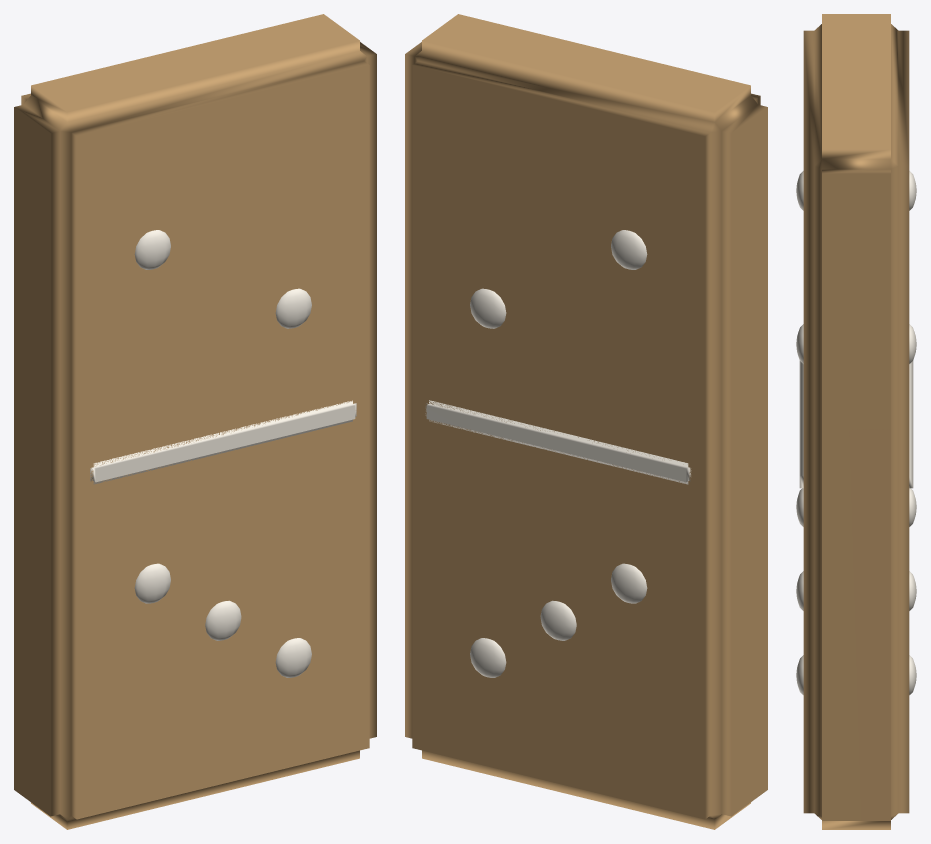
The model's file is wood_domino_bevel.glb.
The picture shows the model from 3 angles, left to right: view 1: azimuth 30°, elevation 25°; view 2: azimuth 150°, elevation 25°; view 3: azimuth 270°, elevation 25°; orthographic projection. The views are drawn at different scales.
Visible parts, largest first — view 1: Body, Divider_-0.125, Pip_-0.125_0.19_0.3, Pip_-0.125_-0.19_-0.32, Pip_-0.125_0.19_-0.6, Pip_-0.125_-0.19_0.54, Pip_-0.125_0.0_-0.46; view 2: Body, Divider_0.125, Pip_0.125_0.19_0.3, Pip_0.125_-0.19_-0.32, Pip_0.125_0.19_-0.6, Pip_0.125_-0.19_0.54, Pip_0.125_0.0_-0.46; view 3: Body, Divider_0.125, Divider_-0.125.
Boxes of the visible parts, bbox=[...] form: Body: bbox=[14, 14, 376, 829]; Divider_-0.125: bbox=[90, 400, 356, 484]; Pip_-0.125_0.19_0.3: bbox=[275, 288, 311, 328]; Pip_-0.125_-0.19_-0.32: bbox=[134, 563, 170, 603]; Pip_-0.125_0.19_-0.6: bbox=[275, 638, 311, 677]; Pip_-0.125_-0.19_0.54: bbox=[134, 230, 170, 269]; Pip_-0.125_0.0_-0.46: bbox=[205, 600, 241, 640]; Body: bbox=[405, 14, 767, 829]; Divider_0.125: bbox=[425, 400, 691, 484]; Pip_0.125_0.19_0.3: bbox=[470, 288, 506, 328]; Pip_0.125_-0.19_-0.32: bbox=[611, 563, 647, 603]; Pip_0.125_0.19_-0.6: bbox=[470, 638, 506, 677]; Pip_0.125_-0.19_0.54: bbox=[611, 230, 647, 269]; Pip_0.125_0.0_-0.46: bbox=[540, 600, 576, 640]; Body: bbox=[803, 14, 909, 829]; Divider_0.125: bbox=[909, 361, 913, 488]; Divider_-0.125: bbox=[799, 361, 803, 488].
Bounding box in the file's own units: 0.88 × 1.85 × 0.2968.
